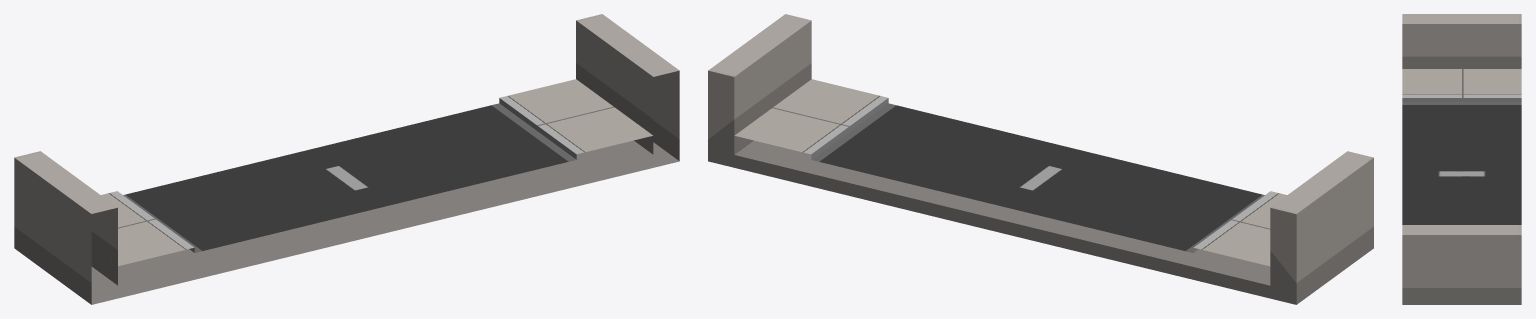
File: Road_Ramp.fbx
3 renders of one model, left to right at view 1: azimuth 30°, elevation 25°; view 2: azimuth 150°, elevation 25°; view 3: azimuth 270°, elevation 25°, orthographic. The views are drawn at different scales.
Visible parts, largest first — view 1: Env_Road_Ramp; view 2: Env_Road_Ramp; view 3: Env_Road_Ramp.
Boxes of the visible parts, x1,y1,x2,y2 form: Env_Road_Ramp: (14,14,679,304); Env_Road_Ramp: (708,14,1373,304); Env_Road_Ramp: (1402,14,1521,304).
Size of the model in its own units: 549 by 81.07 by 125.
Materials: 1 (1 with a texture image).
